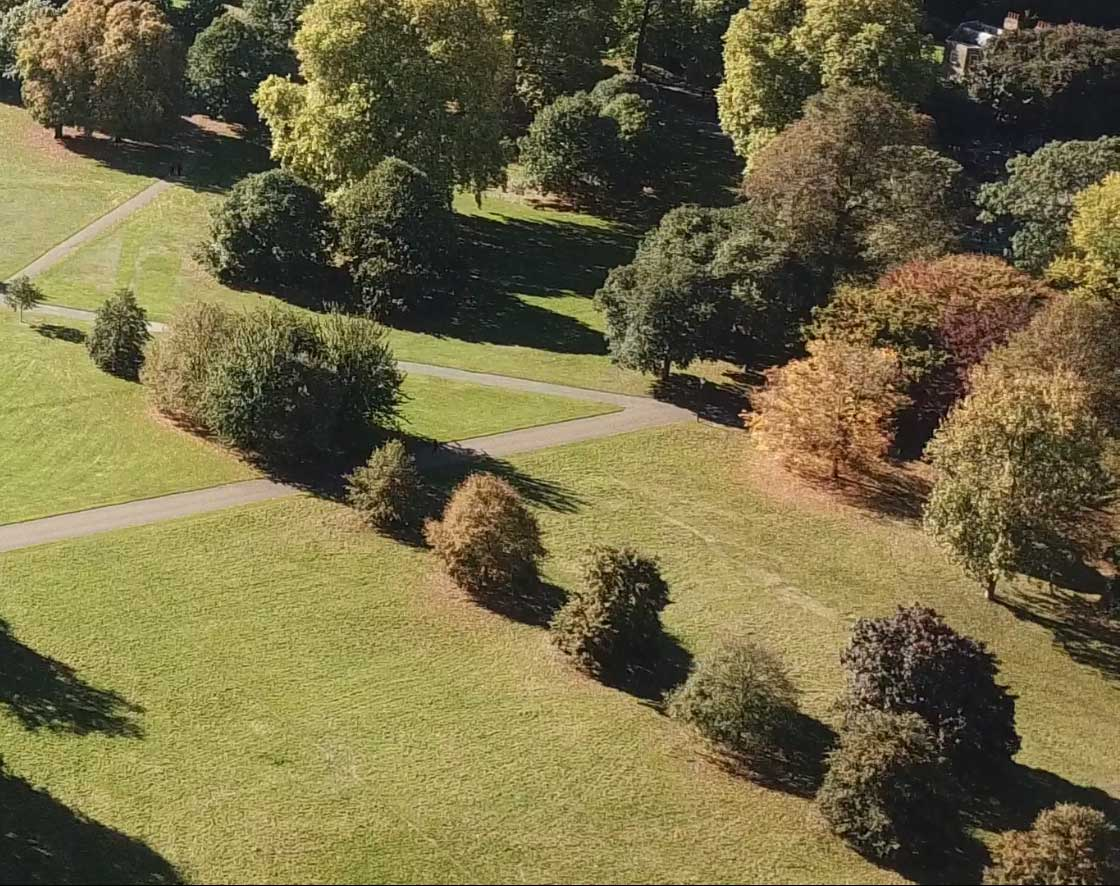tree: (902, 359, 1119, 613), (144, 279, 412, 476), (742, 327, 928, 499), (597, 242, 739, 415), (26, 1, 161, 145), (427, 466, 554, 616), (666, 642, 801, 774), (533, 543, 674, 657), (77, 286, 158, 375)
